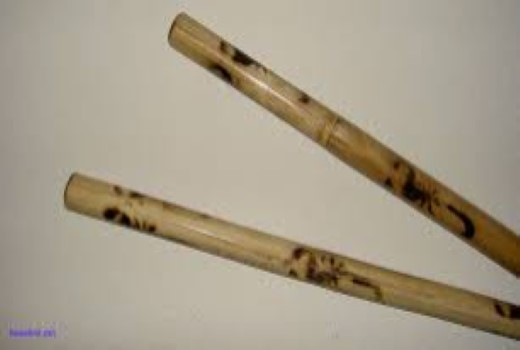baston_e: (263, 56, 506, 223), (152, 256, 490, 334)
baston_v: (121, 2, 256, 73), (44, 150, 136, 235)
